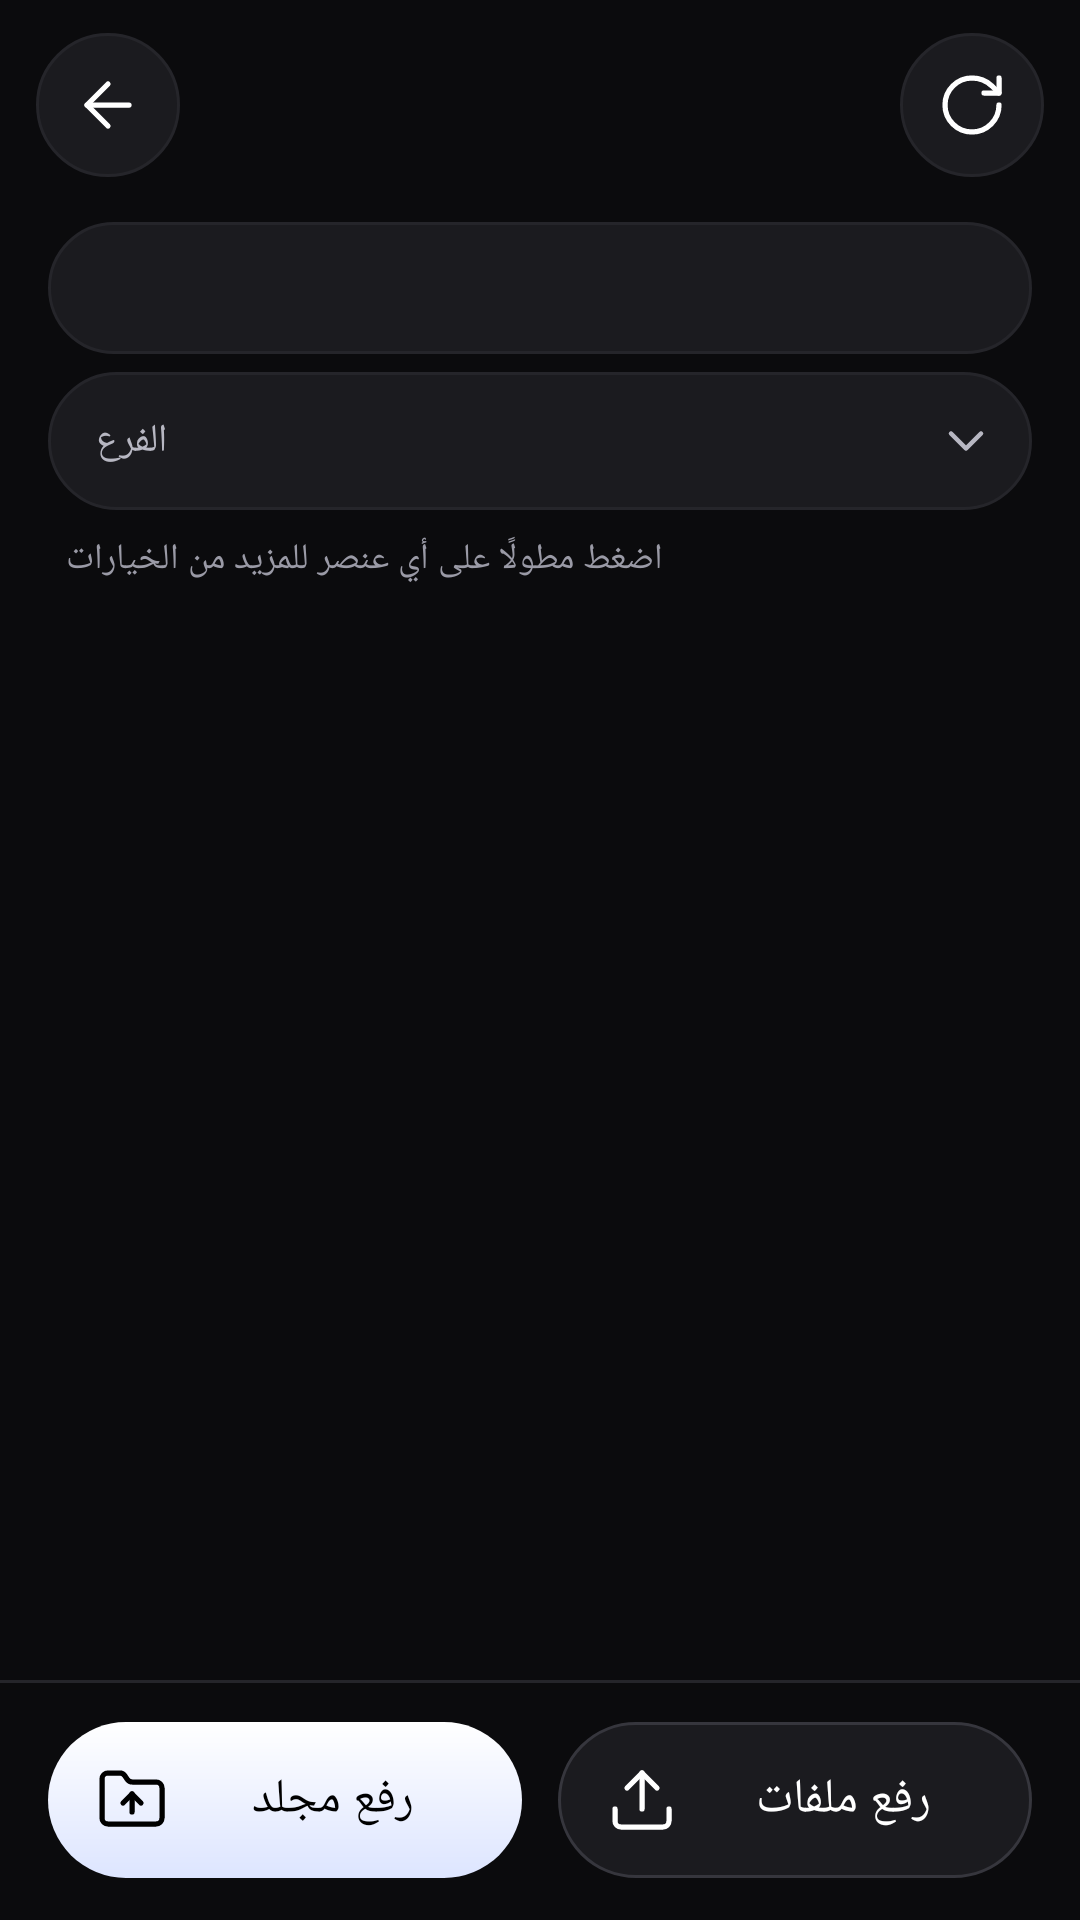

Icon bounding boxes for this 1080×1920 phone screenshot, format [x1,y1,x2,y2]:
expand: [948,431,984,451]
تحديث: [900,33,1044,177]
رجوع: [36,33,180,177]
